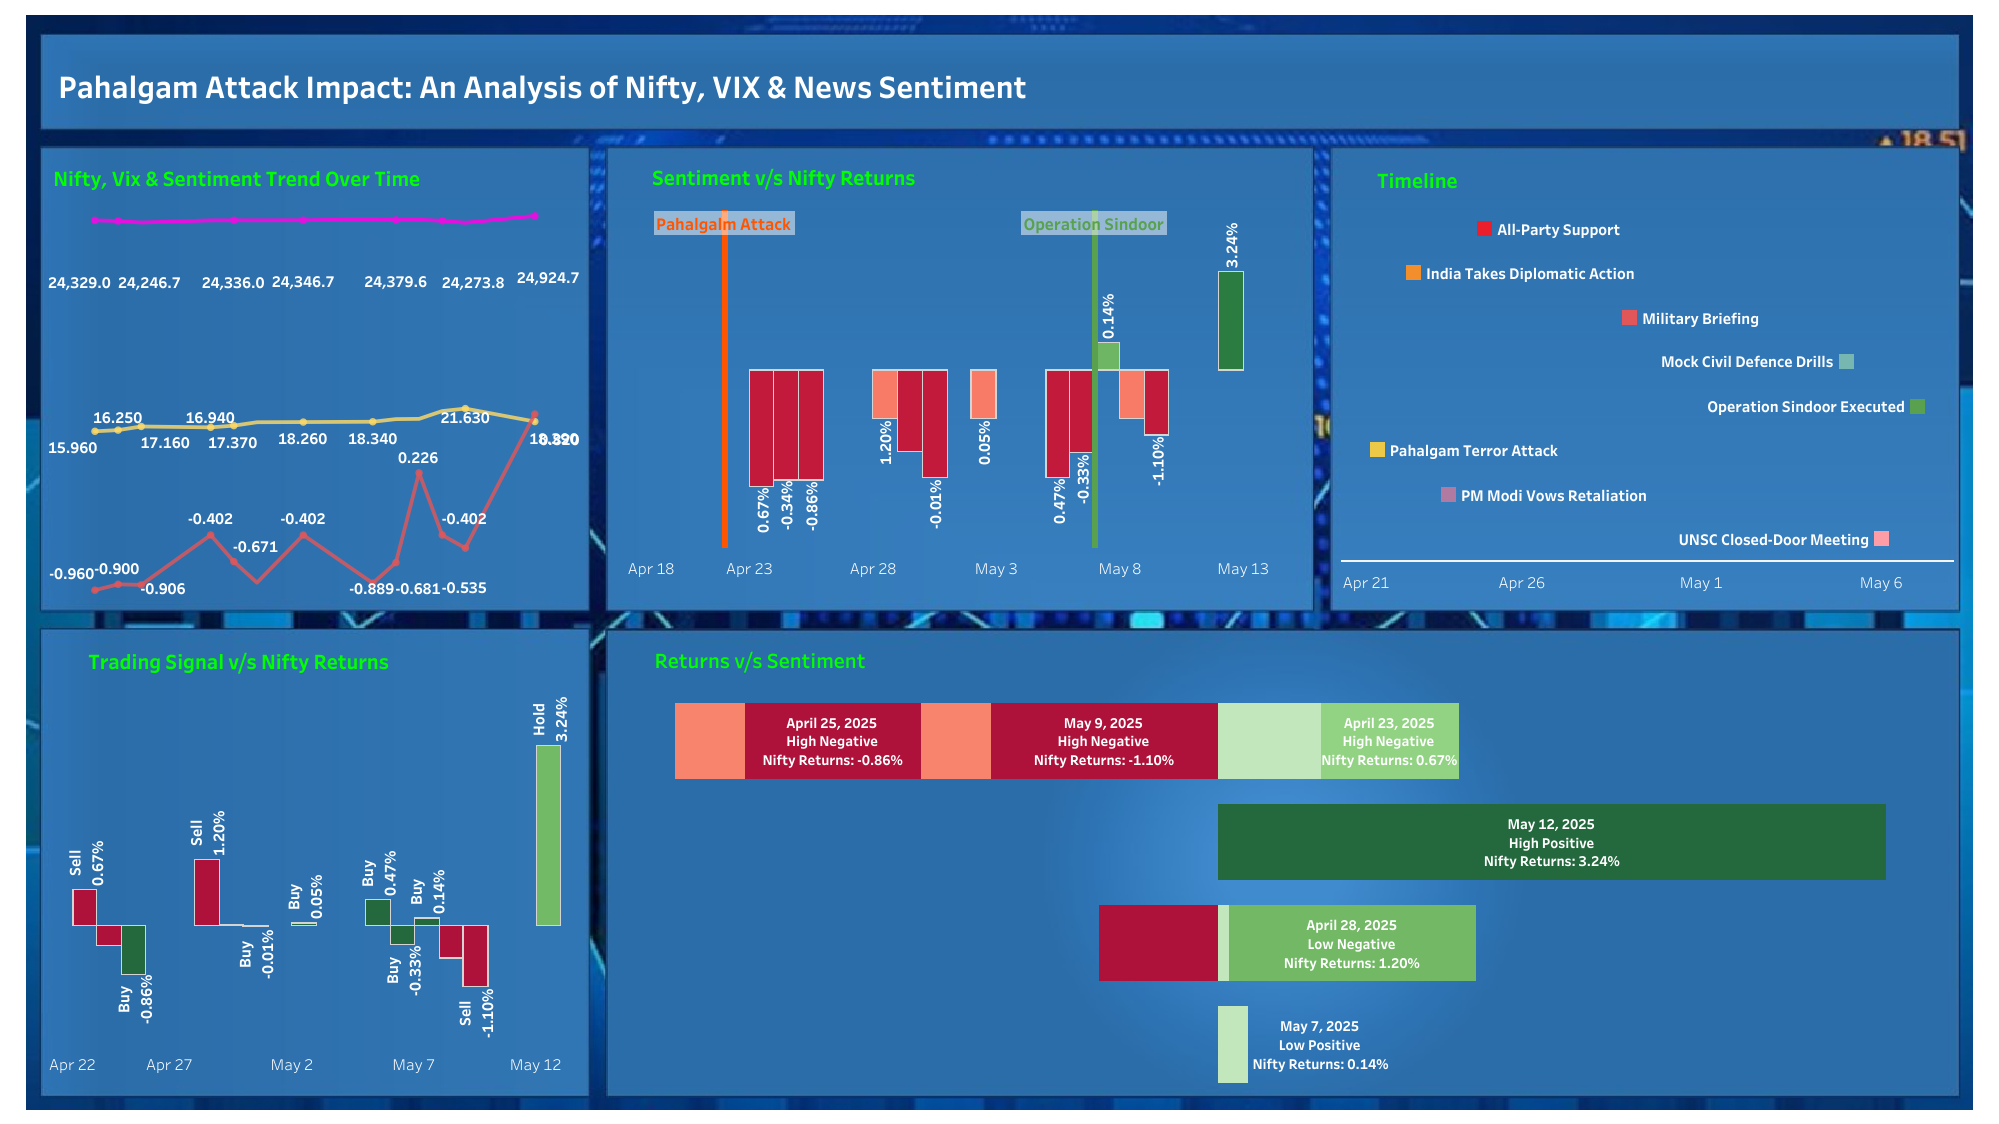

What the dashboard file says about the page in this screenshot:
{"tool":"tableau","page":{"name":"Dashboard 1","canvas":[1600,900],"ordinal":0},"visuals":[{"type":"image","param":"Image/market template.2.jpg","box":[8,8,1584,884]},{"type":"text","box":[44,38,1161,60]},{"type":"text","box":[519,126,271,30]},{"type":"text","box":[40,127,399,30]},{"type":"text","box":[1099,128,100,30]},{"type":"worksheet","title":"Nifty & Vix Trend Over Time","mark":"Line","rows":["Nifty_Close","Vix_Close","Sentiment_Score"],"cols":["Date"],"box":[38,163,426,317]},{"type":"worksheet","title":"Timeline","mark":"Square","rows":["F2"],"cols":["F1"],"box":[1073,165,490,315]},{"type":"worksheet","title":"Sentiment v/s Nifty Returns","mark":"Bar","rows":["Sentiment_Score"],"cols":["Date"],"box":[501,168,533,307]},{"type":"text","box":[521,512,218,30]},{"type":"text","box":[68,513,308,30]},{"type":"worksheet","title":"Trading Signal vs Nifty Returns","mark":"Bar","rows":["Nifty_Daily_Return"],"cols":["Date"],"box":[38,550,430,320]},{"type":"worksheet","title":"Heatmap Returns vs Sentiment","mark":"Bar","rows":["Calculation_1222164358392598530"],"cols":["Nifty_Returns"],"box":[492,552,1065,324]}]}

Visuals, with their boxes in screenshot pixels (x1, y1, x2, y2), scaled from the page's 1600x900 canvas onto the 1999x1124 screenshot:
image: x1=10 y1=10 x2=1989 y2=1114
text: x1=55 y1=47 x2=1505 y2=122
text: x1=648 y1=157 x2=987 y2=195
text: x1=50 y1=159 x2=548 y2=196
text: x1=1373 y1=160 x2=1498 y2=197
"Nifty & Vix Trend Over Time" worksheet (Line marks): x1=47 y1=204 x2=580 y2=599
"Timeline" worksheet (Square marks): x1=1341 y1=206 x2=1953 y2=599
"Sentiment v/s Nifty Returns" worksheet (Bar marks): x1=626 y1=210 x2=1292 y2=593
text: x1=651 y1=639 x2=923 y2=677
text: x1=85 y1=641 x2=470 y2=678
"Trading Signal vs Nifty Returns" worksheet (Bar marks): x1=47 y1=687 x2=585 y2=1087
"Heatmap Returns vs Sentiment" worksheet (Bar marks): x1=615 y1=689 x2=1945 y2=1094
